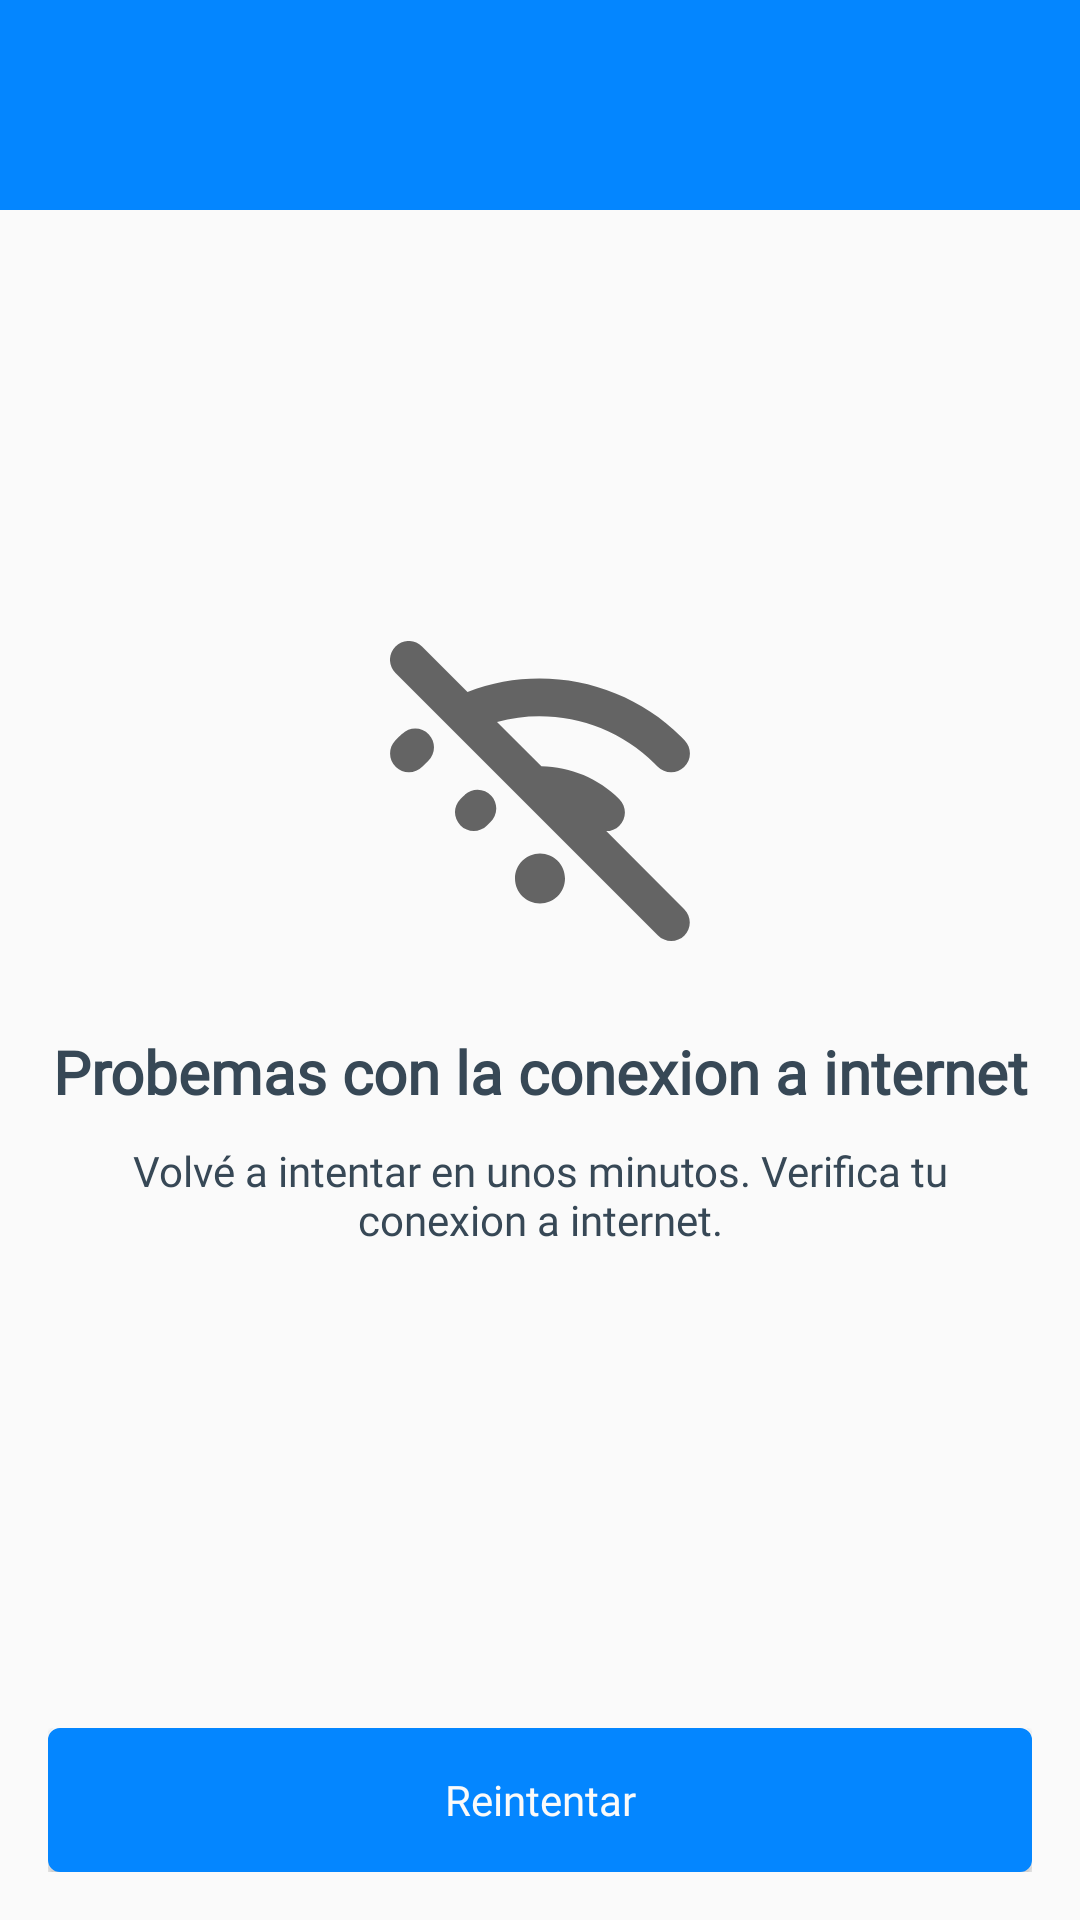

Icon click points for this 1080x1920 phone screenshot, format (x,y):
not wifi: (540,791)
